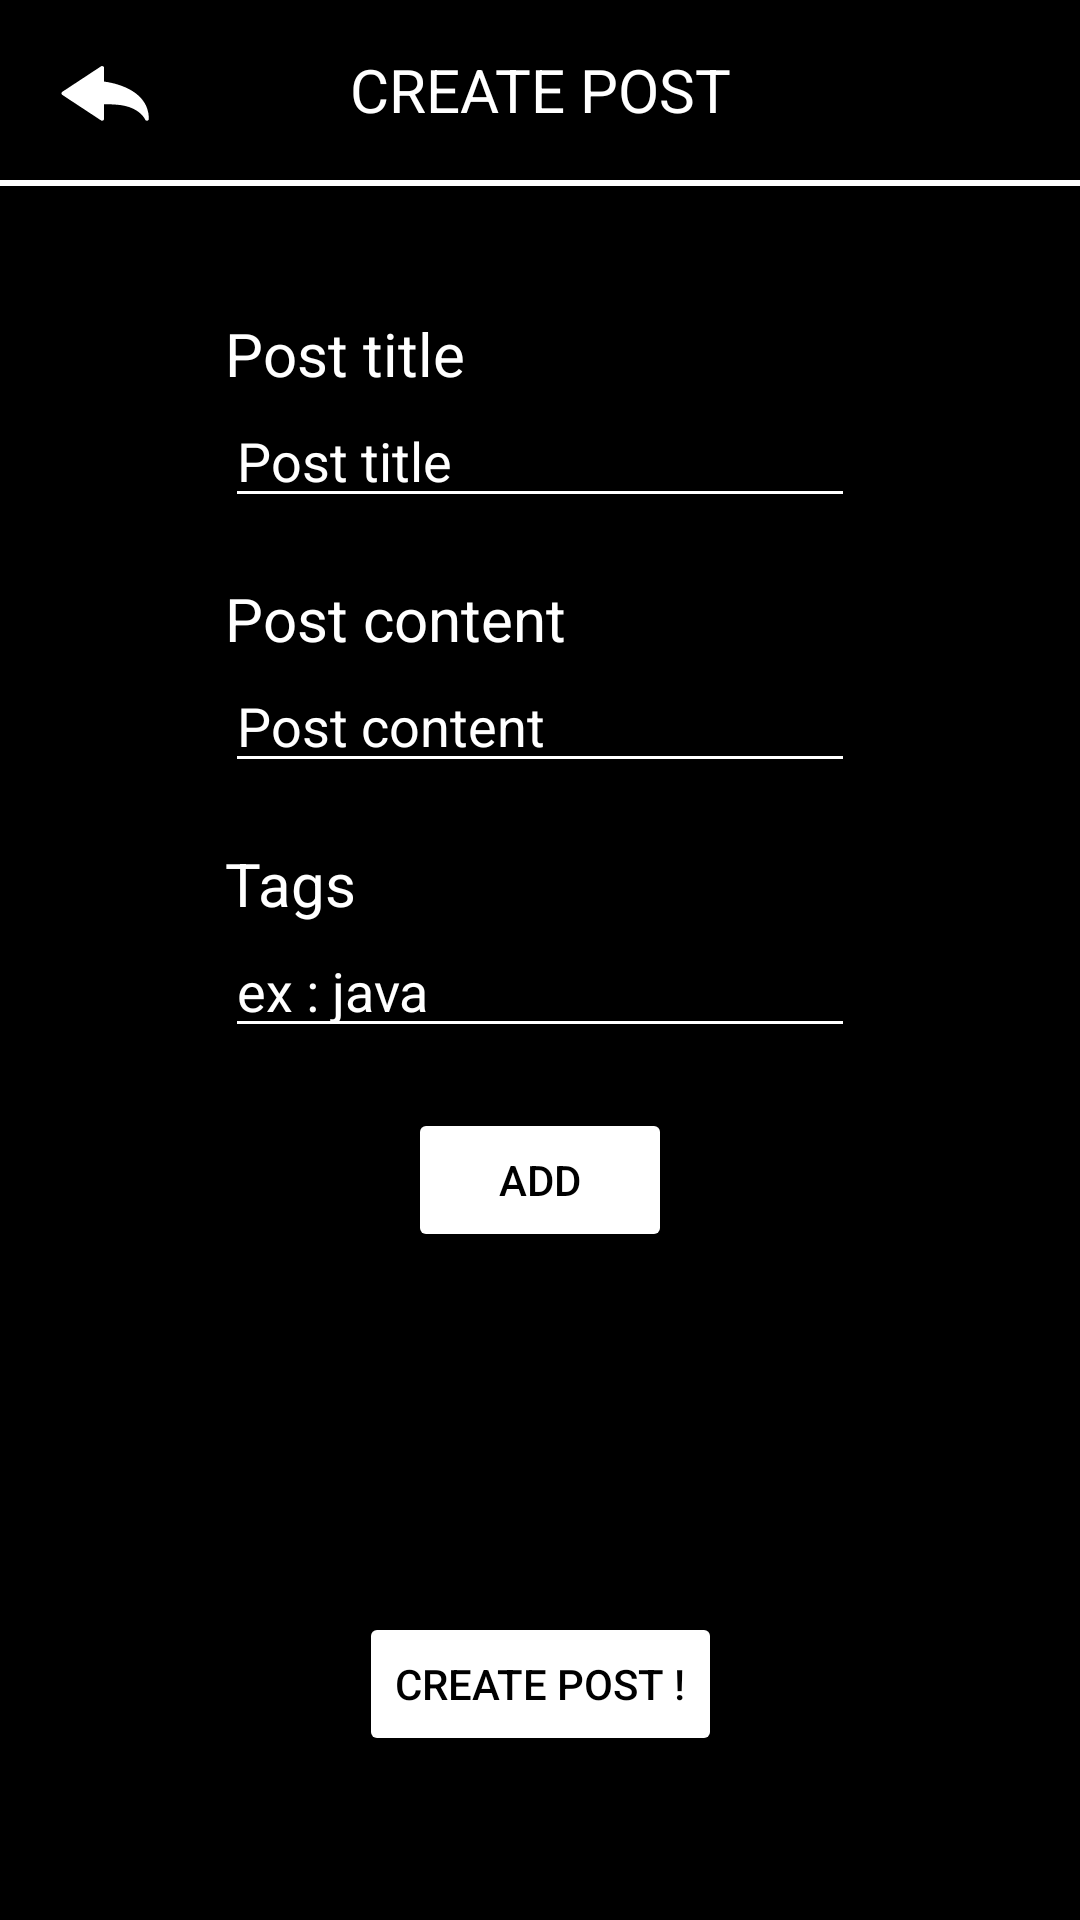

Icons on this 1080px×1920px Android screen, each with its box as (left=x1, top=y1, right=x2, bottom=y2):
back arrow: (left=61, top=66, right=149, bottom=121)
